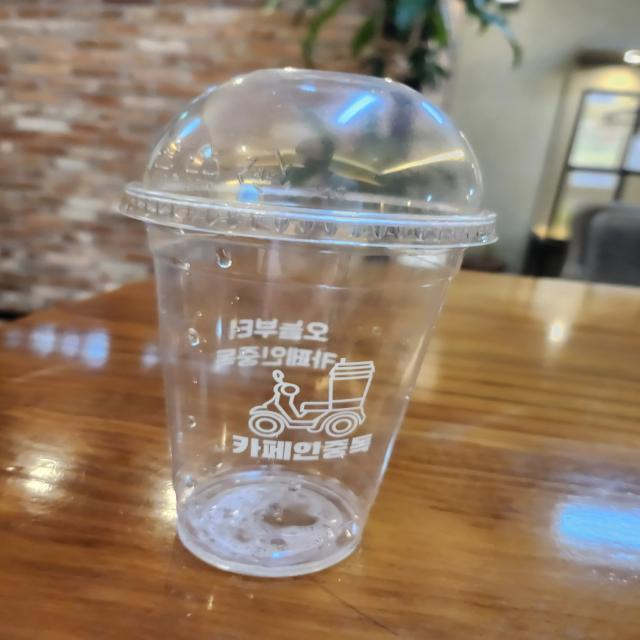plastic_cup_lid: (120, 50, 512, 258)
